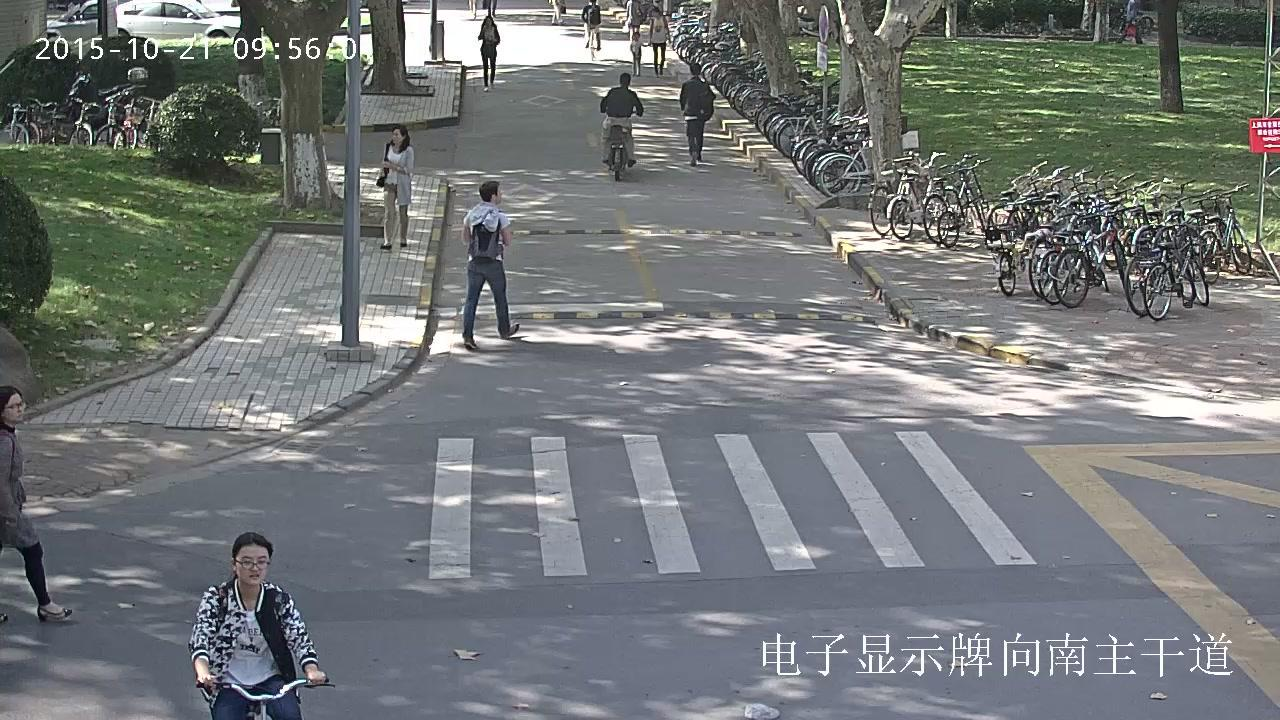person: (189, 531, 335, 720), (189, 532, 324, 718), (0, 385, 71, 625), (461, 182, 519, 350), (599, 73, 644, 181), (375, 124, 413, 249), (599, 73, 643, 166), (679, 61, 715, 168), (477, 15, 500, 91), (647, 6, 668, 78), (582, 0, 600, 61), (629, 31, 650, 77), (582, 0, 600, 50), (626, 0, 643, 31), (548, 0, 567, 25)
